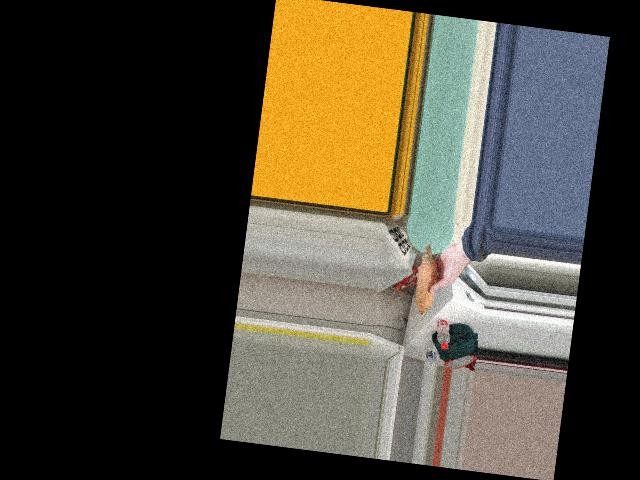sweet_potato: (414, 251, 438, 313)
